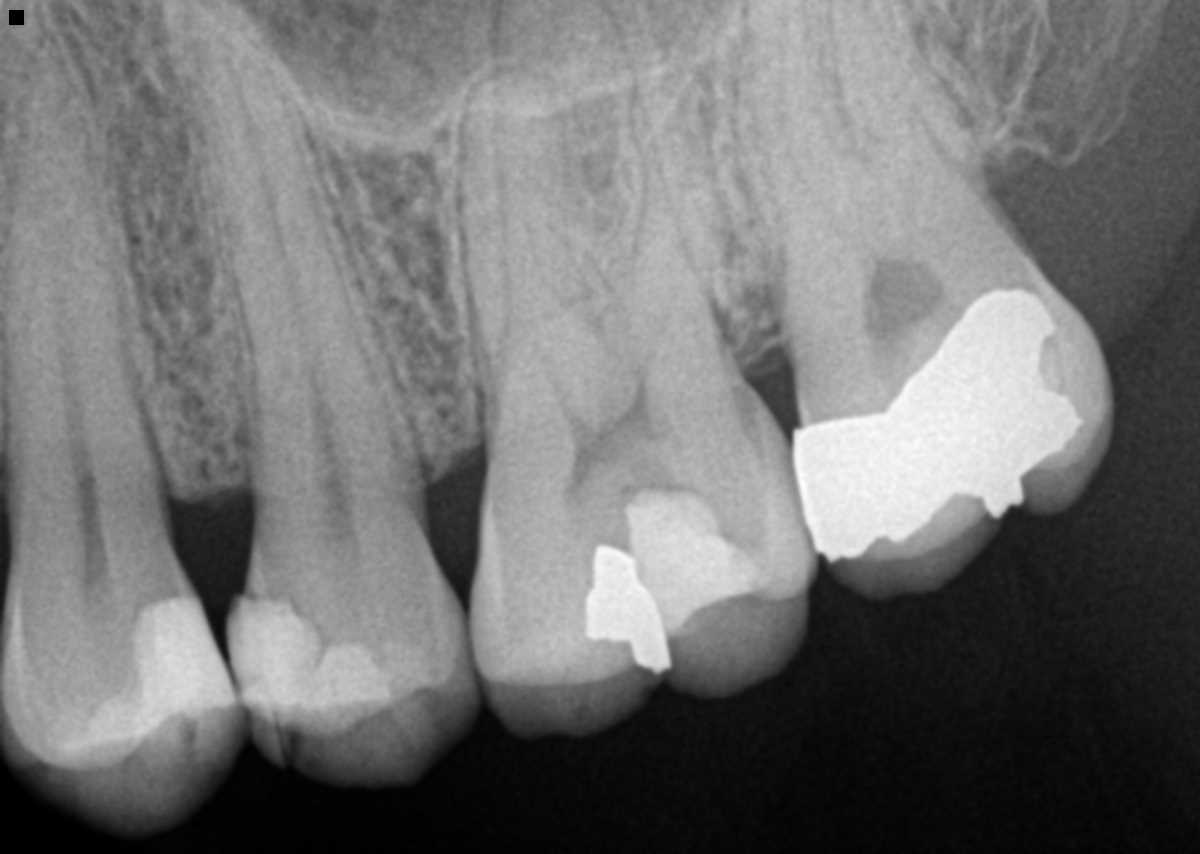Distal Root: (616, 53, 733, 370), (834, 0, 991, 214)
Main Canal: (225, 53, 342, 491), (50, 248, 97, 488)
Main Root: (159, 0, 434, 495), (0, 8, 170, 506)
Mesial Root: (461, 65, 605, 430), (733, 2, 857, 301)
Palatal Root: (486, 0, 746, 433)
